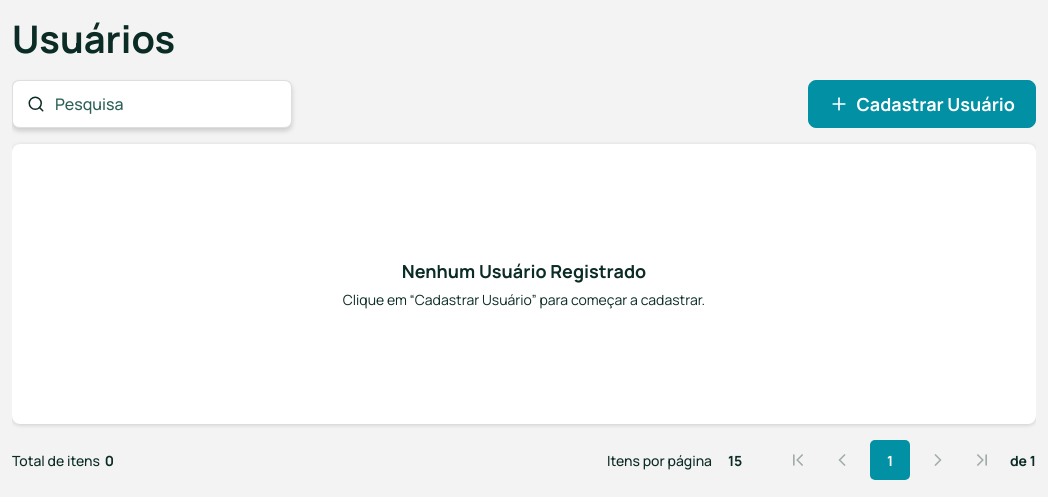
UsersPage › continua digitando sem perder caracteres enquanto a URL é atualizada
Type "mar" into the search field at coordinates (165, 104), box x1=53 y1=91 x2=277 y2=117
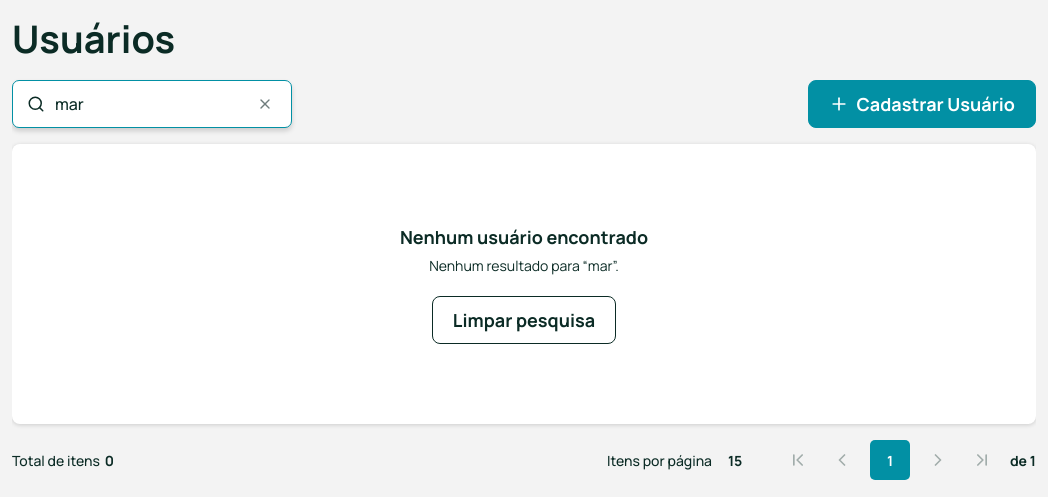
Type "ia" into the search field at coordinates (149, 104), box x1=53 y1=91 x2=245 y2=117
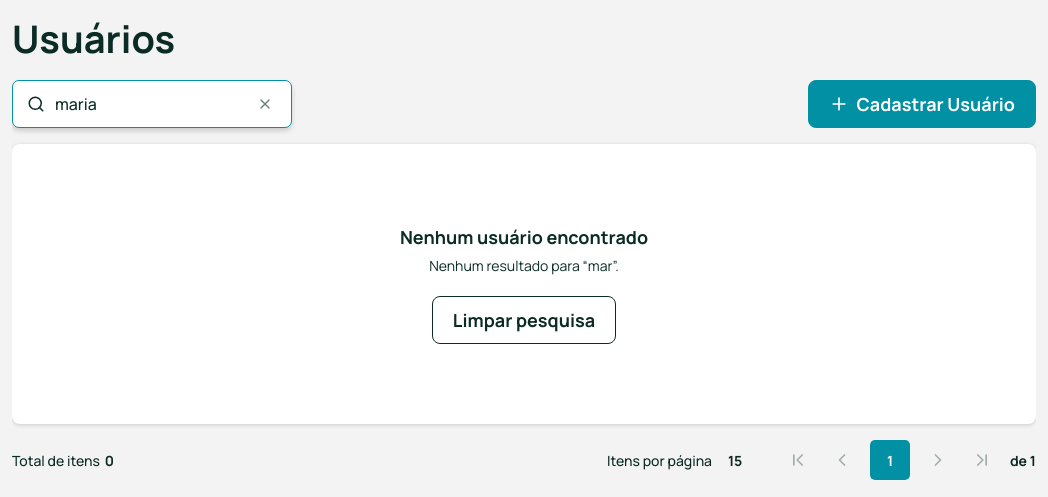
Check: the search field holds "maria", box x1=53 y1=91 x2=245 y2=117
